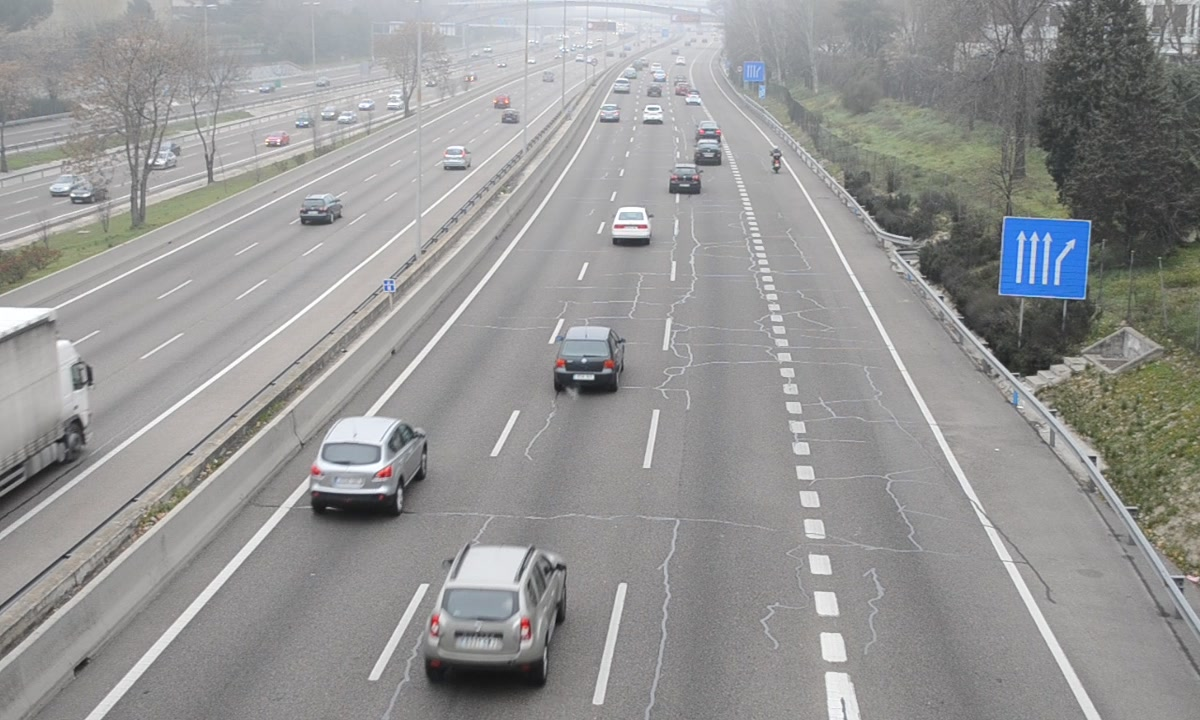car: (425, 543, 566, 670), (312, 416, 428, 501), (554, 325, 623, 389), (611, 205, 653, 242), (668, 163, 701, 193), (695, 140, 724, 165), (697, 121, 724, 141)
motorcycle: (771, 147, 784, 175)
